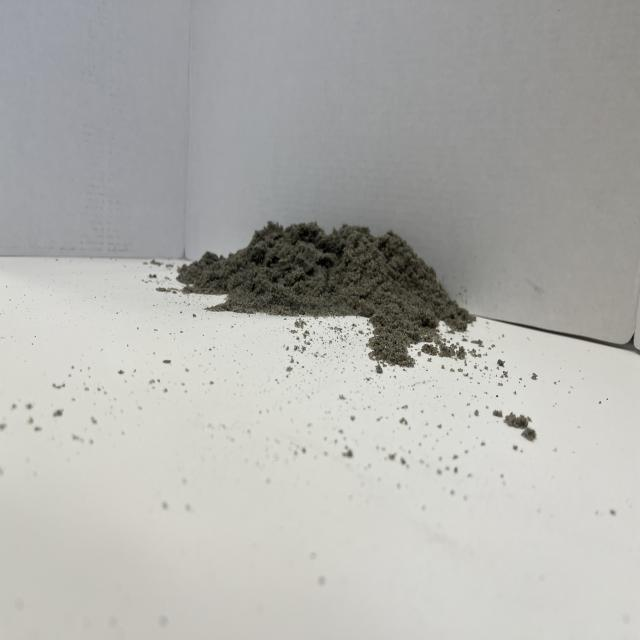sand: (166, 206, 485, 356)
